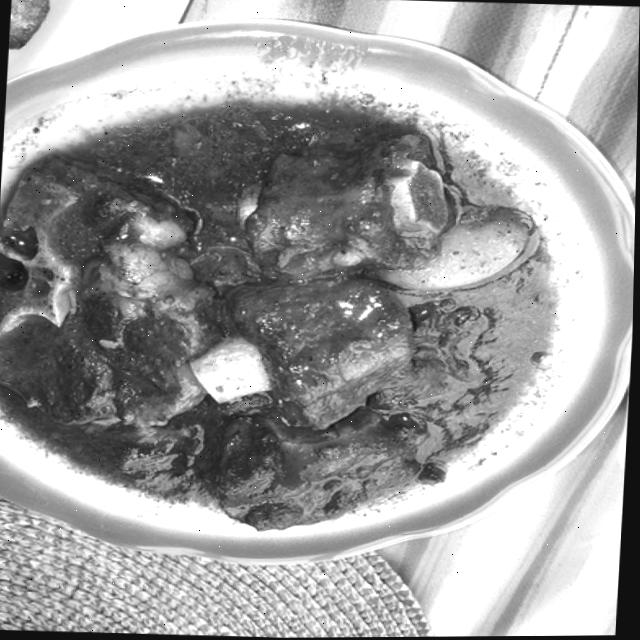汤锅炖物: (0, 17, 640, 587)
